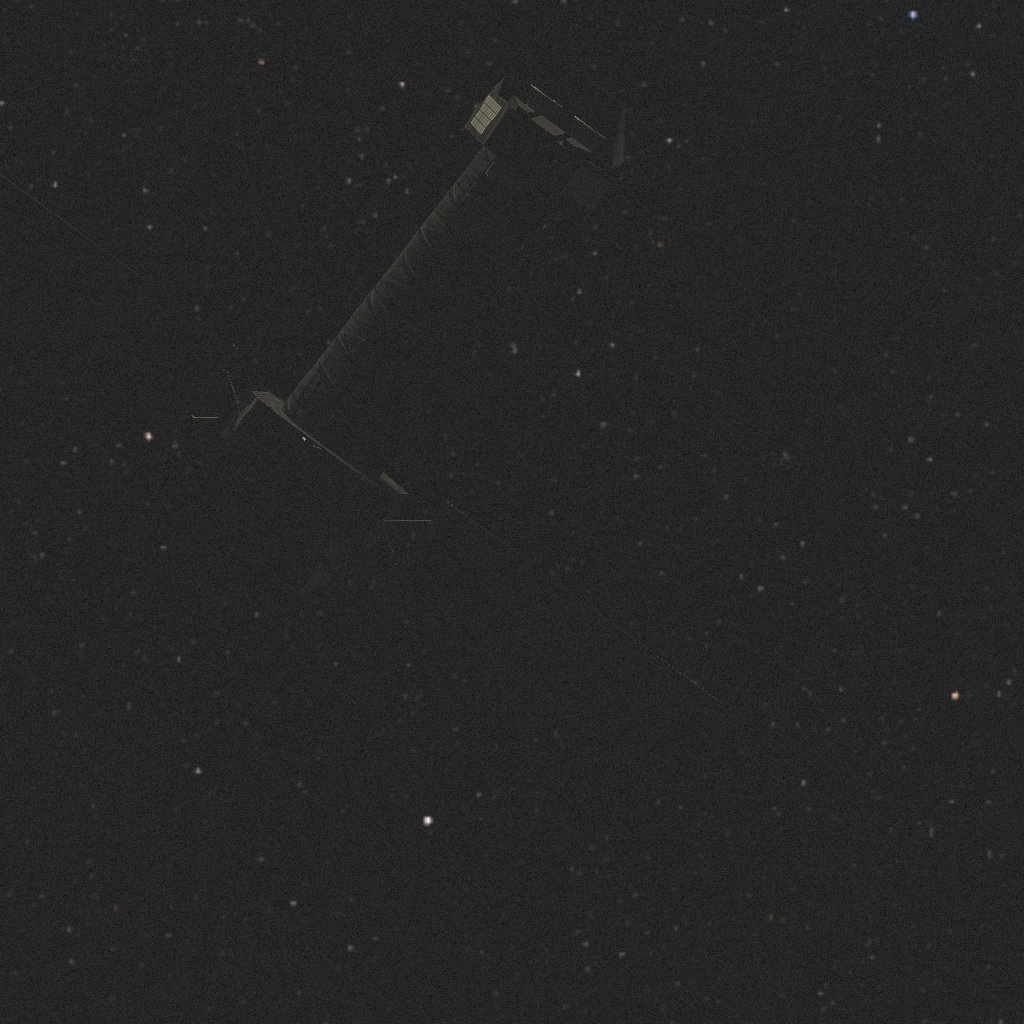xmm_newton: (0, 63, 724, 800)
